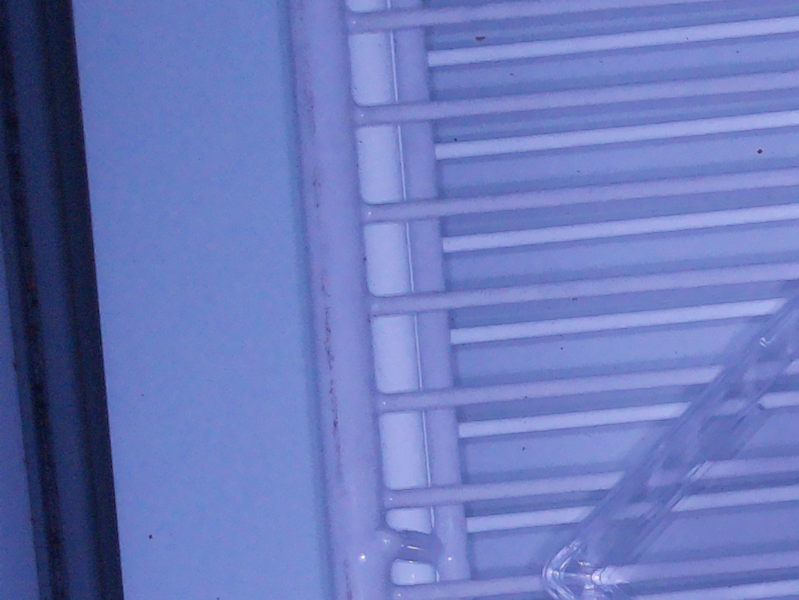plate: (540, 298, 799, 600)
